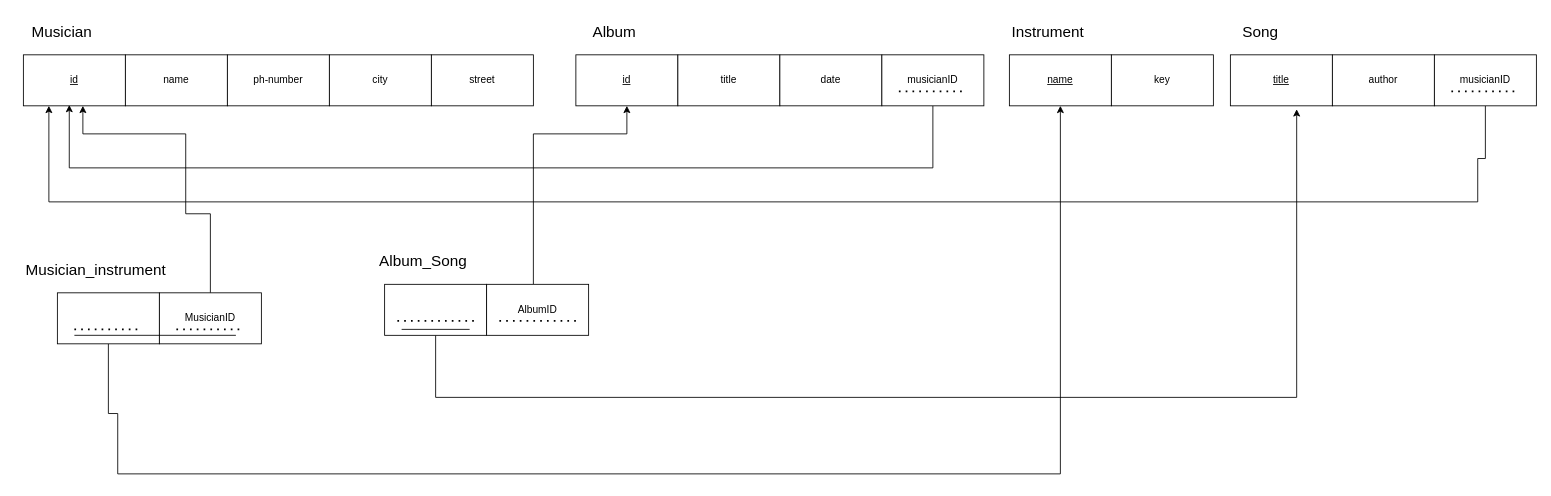
Image size: 1551x496. Some labels were removed from this diagram. Here are the shapes that lost their labels. From the top down, the centre of each, then its label:
At point 108,318: "InstrumentName".
At point 435,309: "SongTitle".
